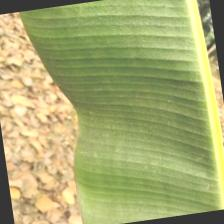healthy: (18, 0, 224, 224)
